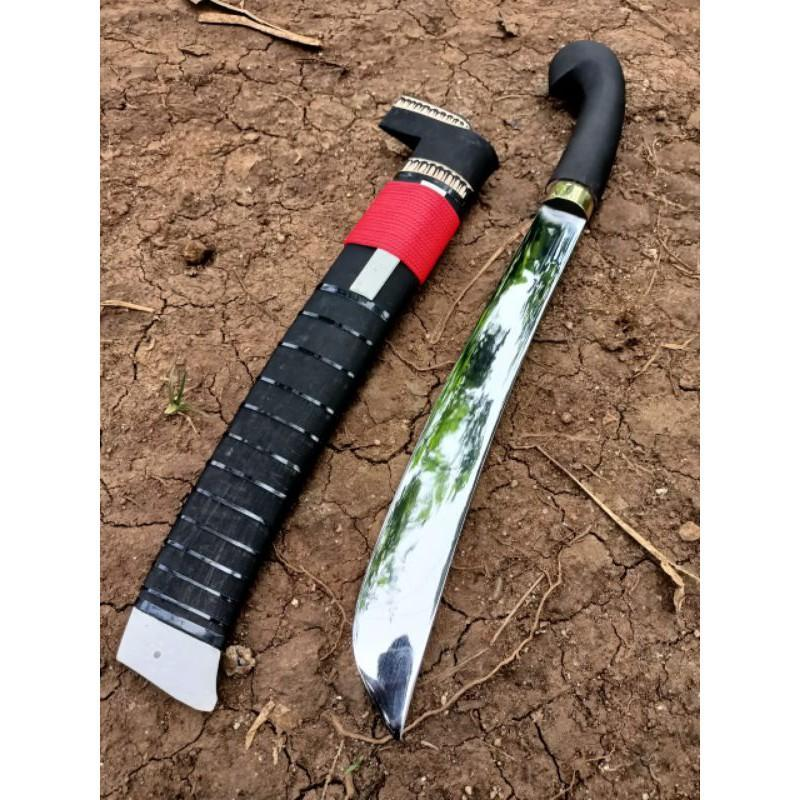facao: (352, 42, 623, 735)
